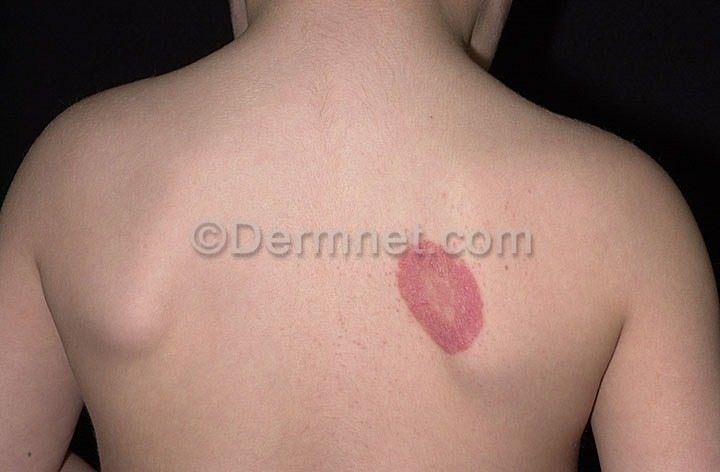Ringworm: (391, 236, 492, 364)
